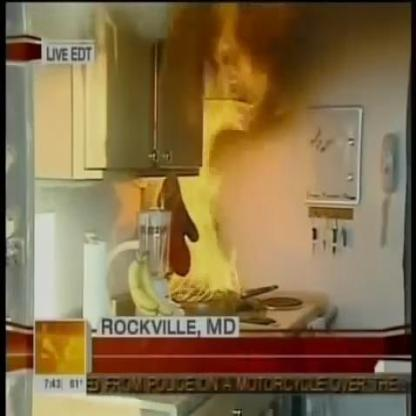fire: (165, 4, 267, 298)
